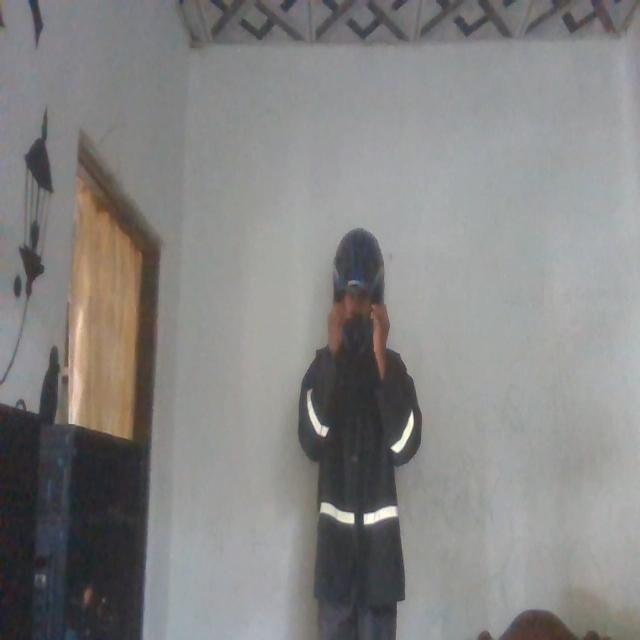Helmet_Wearer: (324, 221, 398, 377)
Jacket_Wearer: (302, 333, 422, 630)
Person: (298, 219, 427, 640)
